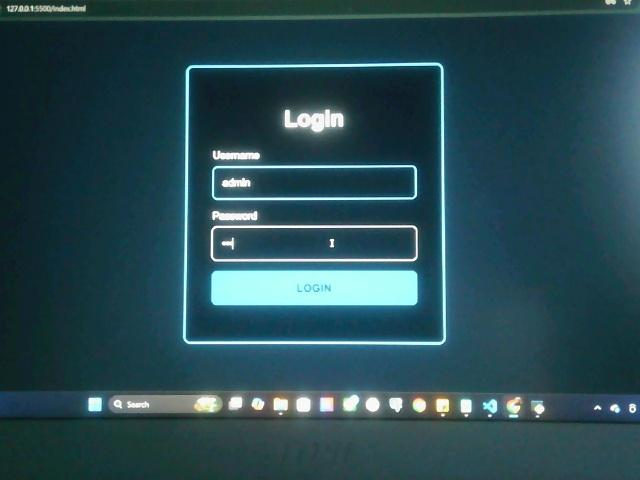login_button: (210, 269, 418, 306)
login_form: (185, 65, 446, 345)
password_input: (209, 225, 419, 262)
title_text: (280, 104, 346, 135)
username_input: (211, 164, 419, 200)
